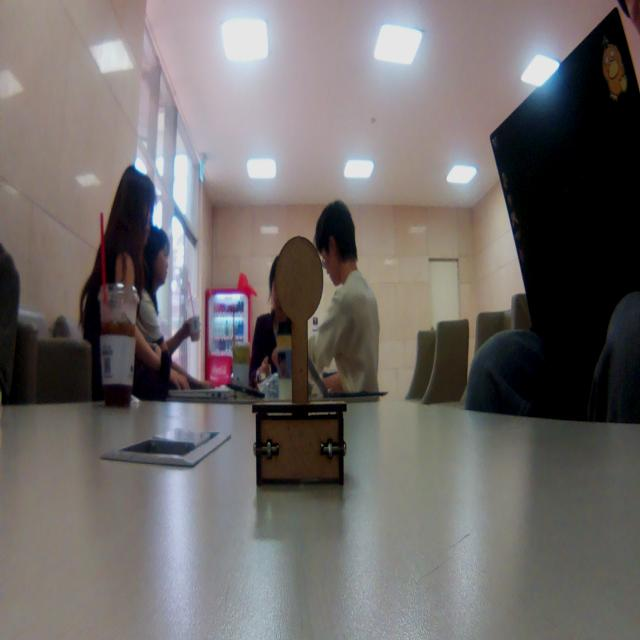target: (252, 234, 347, 488)
